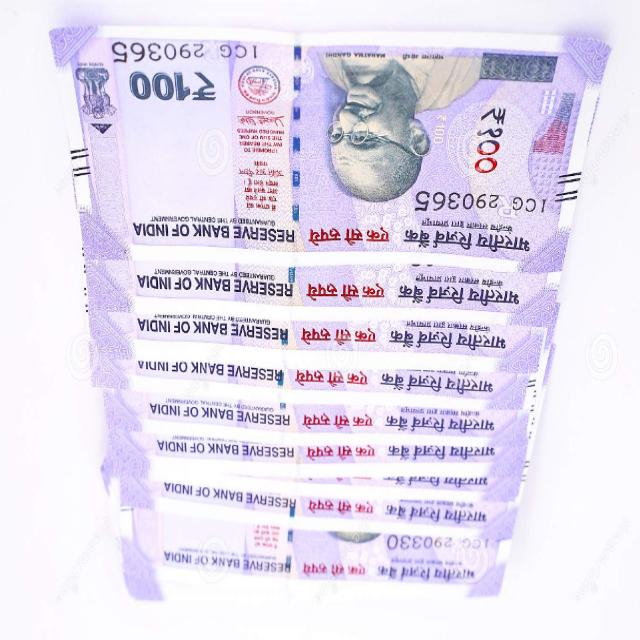100IndianRupees: (46, 26, 615, 272), (293, 38, 560, 275), (50, 32, 306, 251)
